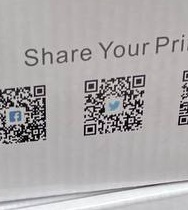2d: (83, 74, 146, 136)
